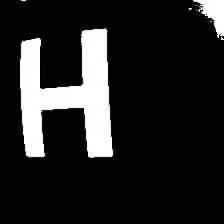LTR_H: (11, 22, 116, 161)
